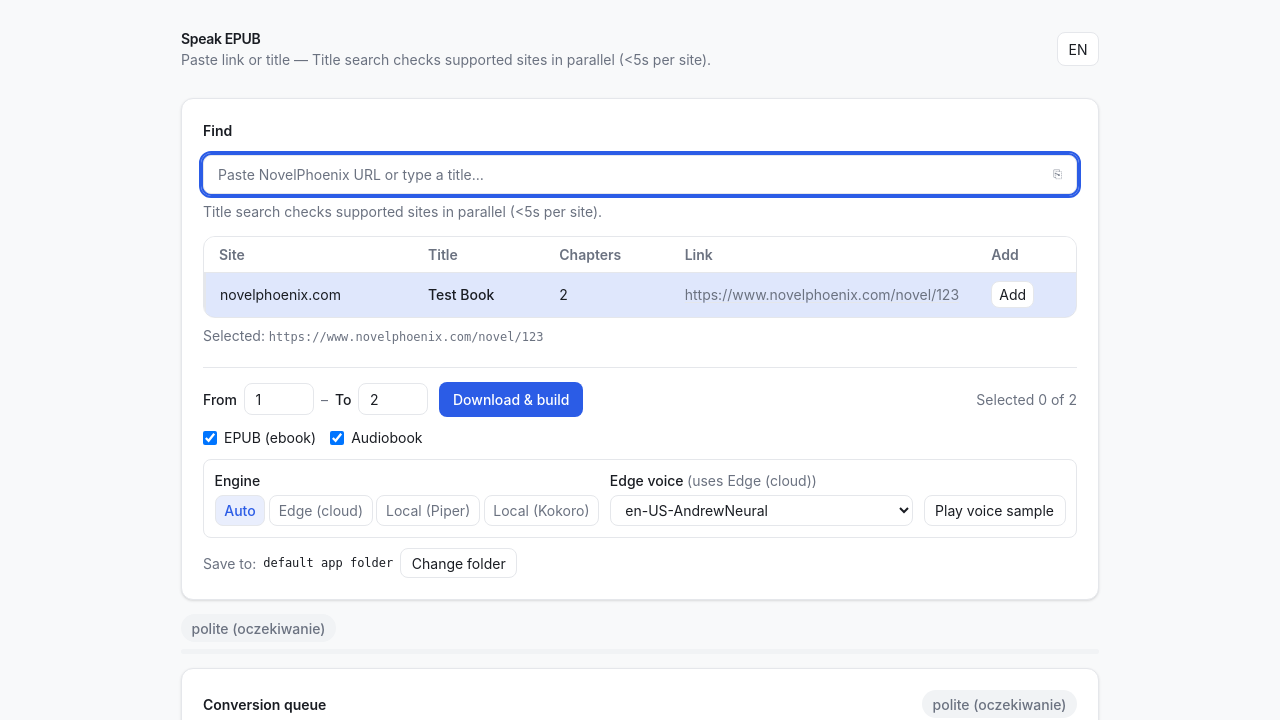
Test case: App wizard — single Start orchestration › folder picker persists outputDir and shows it
Expected: the element with test id "wizard-options" is shown, [203,366,1077,578]
Click the button with test id "wizard-pick-folder": (459, 563) [400,548,517,578]
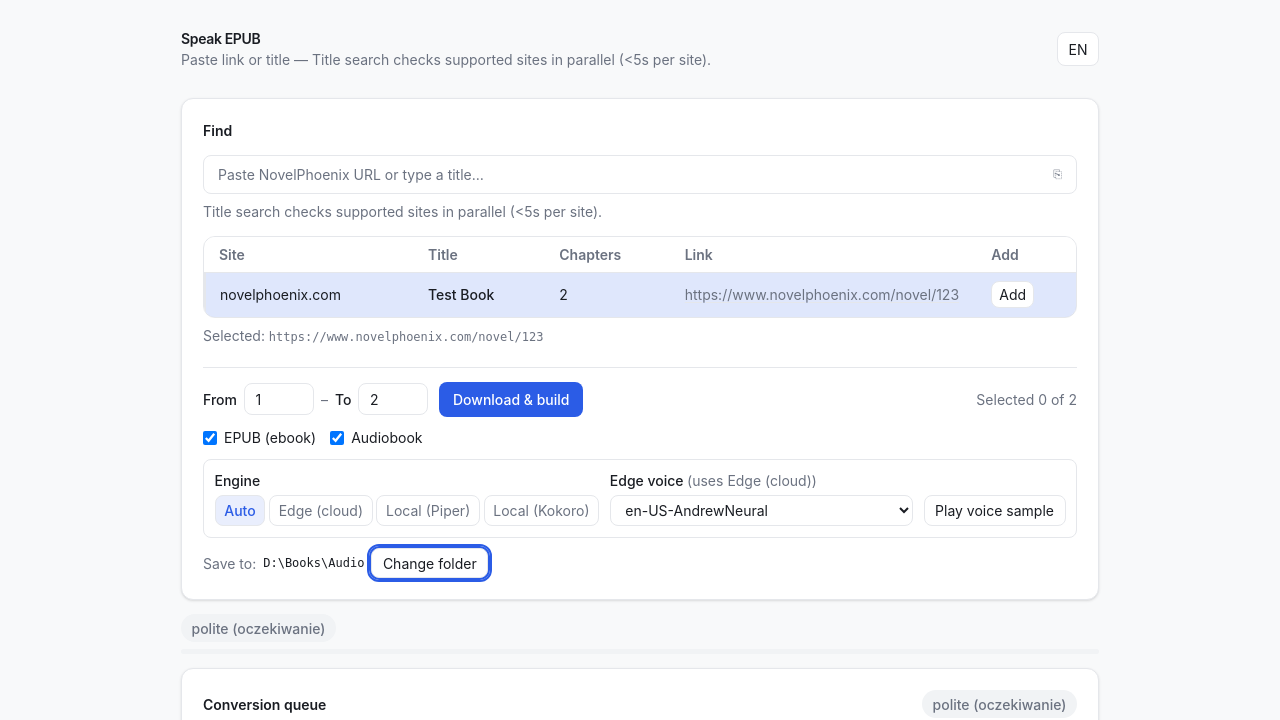
Expected: the text with test id "wizard-output-dir" reads "D:\\Books\\Audio", [263,556,364,570]
